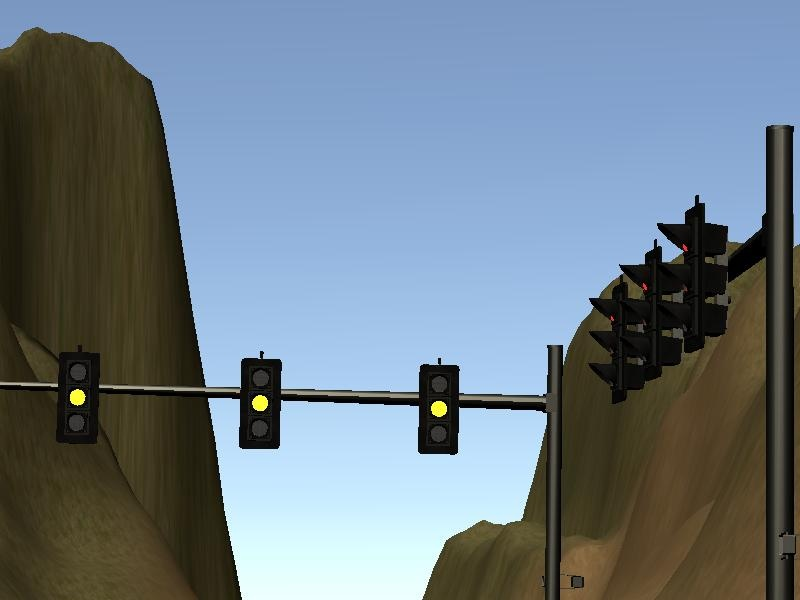YELLOW: (237, 356, 281, 451), (418, 363, 461, 458), (56, 350, 99, 445)
